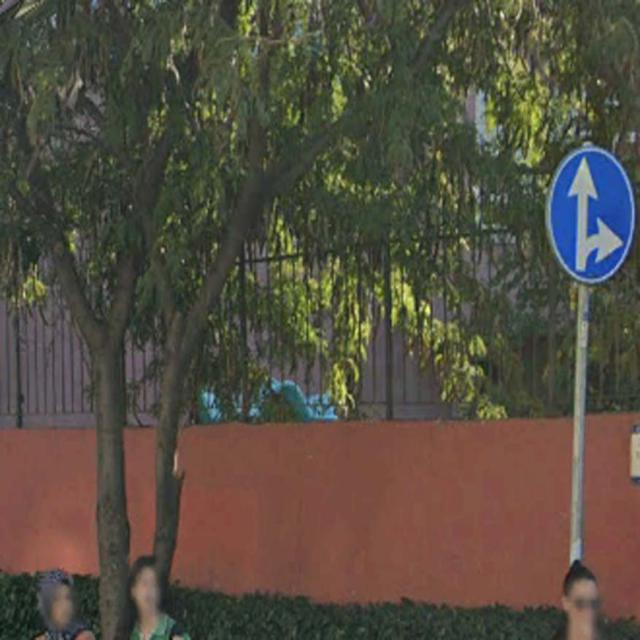ilerisag: (546, 150, 634, 281)
